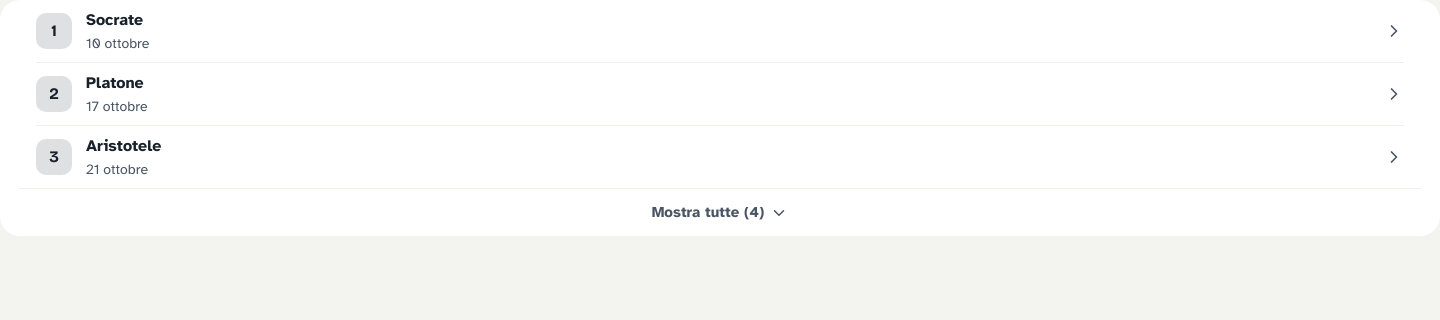
Scenario: CollapsibleLessonList › shows the correct lessons and button label when there are four lessons
Expected: the number of links is 3, top-left (36, 0), bottom-right (1404, 62); top-left (36, 63), bottom-right (1404, 125); top-left (36, 126), bottom-right (1404, 188)
Expected: the link "1 Socrate 10 ottobre" is shown, top-left (36, 0), bottom-right (1404, 62)
Click the button "Mostra tutte (4)".
click(720, 212)  # box top-left (18, 188), bottom-right (1422, 236)
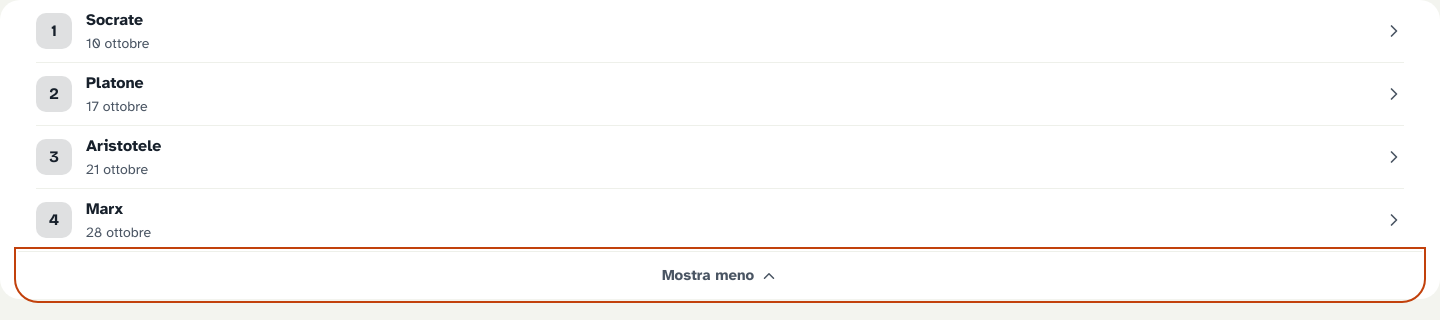
Expected: the number of links is 4, top-left (36, 0), bottom-right (1404, 62); top-left (36, 63), bottom-right (1404, 125); top-left (36, 126), bottom-right (1404, 188); top-left (36, 189), bottom-right (1404, 251)
Expected: the link "4 Marx 28 ottobre" is shown, top-left (36, 189), bottom-right (1404, 251)
Expected: the button named "Mostra tutte (4)" reads "Mostra meno"
Click the button "Mostra meno".
click(720, 275)  # box top-left (18, 251), bottom-right (1422, 299)
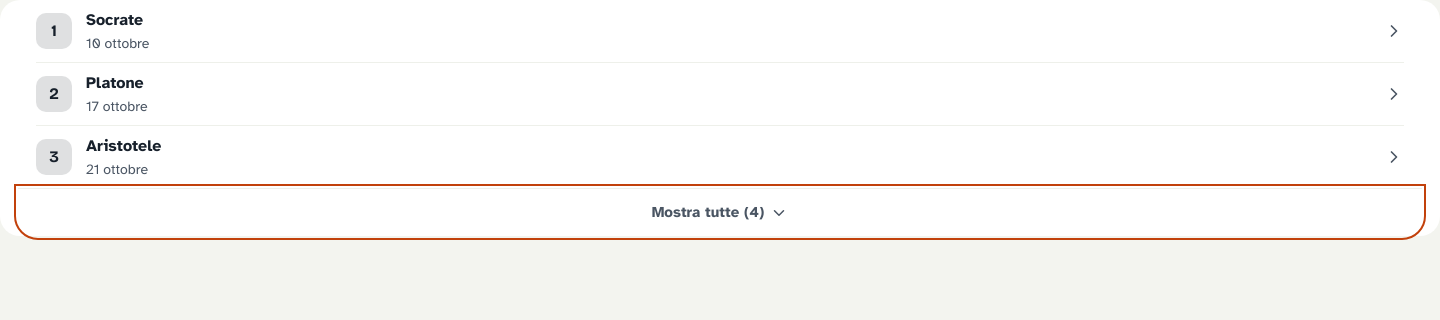
Expected: the number of links is 3, top-left (36, 0), bottom-right (1404, 62); top-left (36, 63), bottom-right (1404, 125); top-left (36, 126), bottom-right (1404, 188)
Expected: the button named "Mostra meno" reads "Mostra tutte (4)", top-left (18, 188), bottom-right (1422, 236)
Expected: the button named "Mostra meno" is collapsed, top-left (18, 188), bottom-right (1422, 236)
